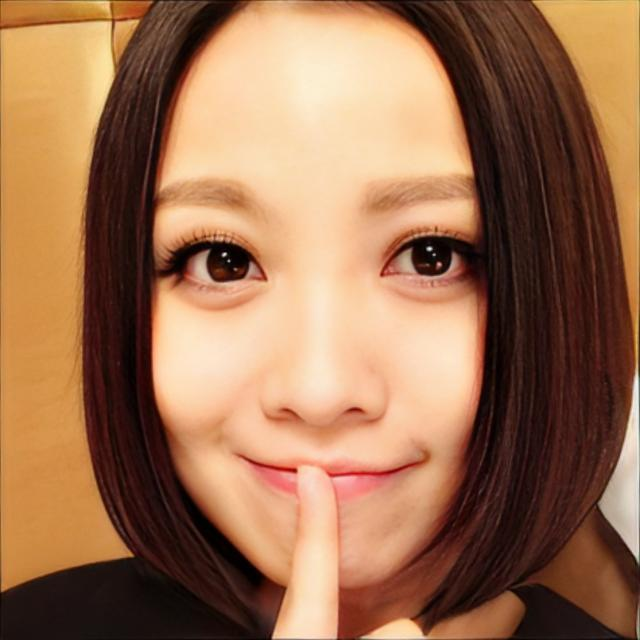happy: (146, 26, 494, 592)
